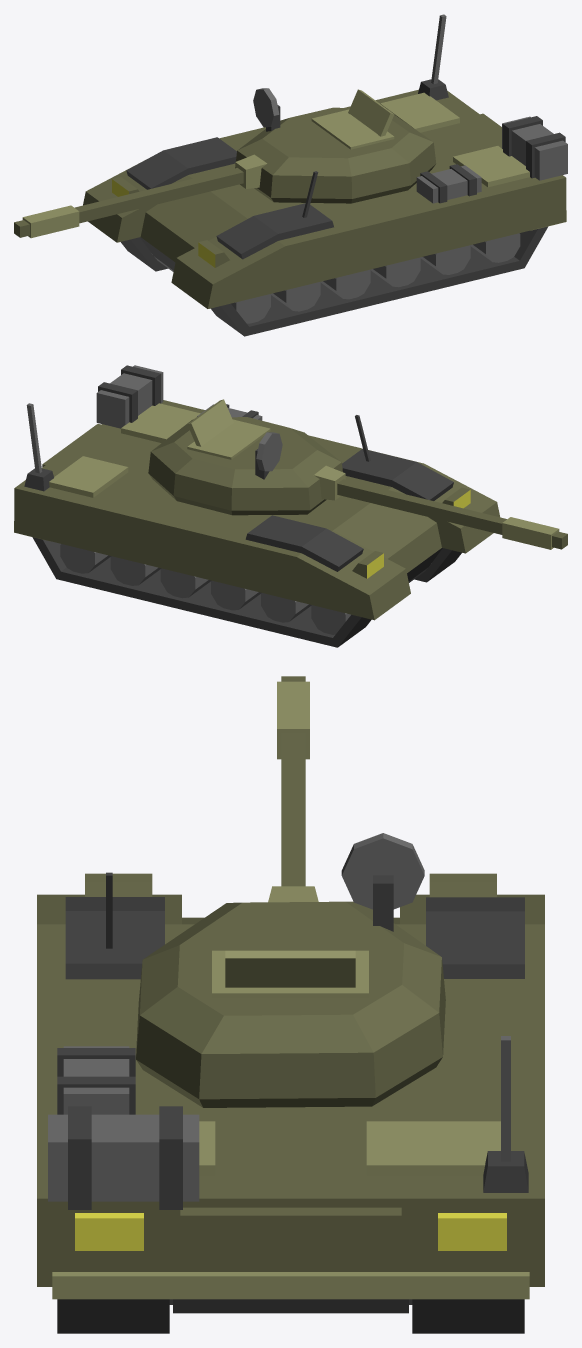
File: low_poly_tank.glb
3 views of the same model, one above another, from view 1: azimuth 30°, elevation 25°; view 2: azimuth 150°, elevation 25°; view 3: azimuth 270°, elevation 25° (orthographic). The views are drawn at different scales.
Visible parts, largest first — view 1: Cube.002; view 2: Cube.002; view 3: Cube.002.
Boxes of the visible parts, x1,y1,x2,y2 form: Cube.002: [14, 14, 567, 336]; Cube.002: [14, 365, 567, 647]; Cube.002: [37, 676, 544, 1333].
Bounding box in the file's own units: 1135 × 358 × 506.
